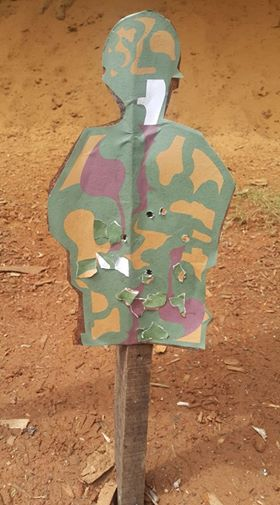Bullet: (145, 210, 155, 219), (181, 235, 191, 243), (145, 269, 153, 278), (159, 207, 166, 215), (120, 234, 128, 241)
